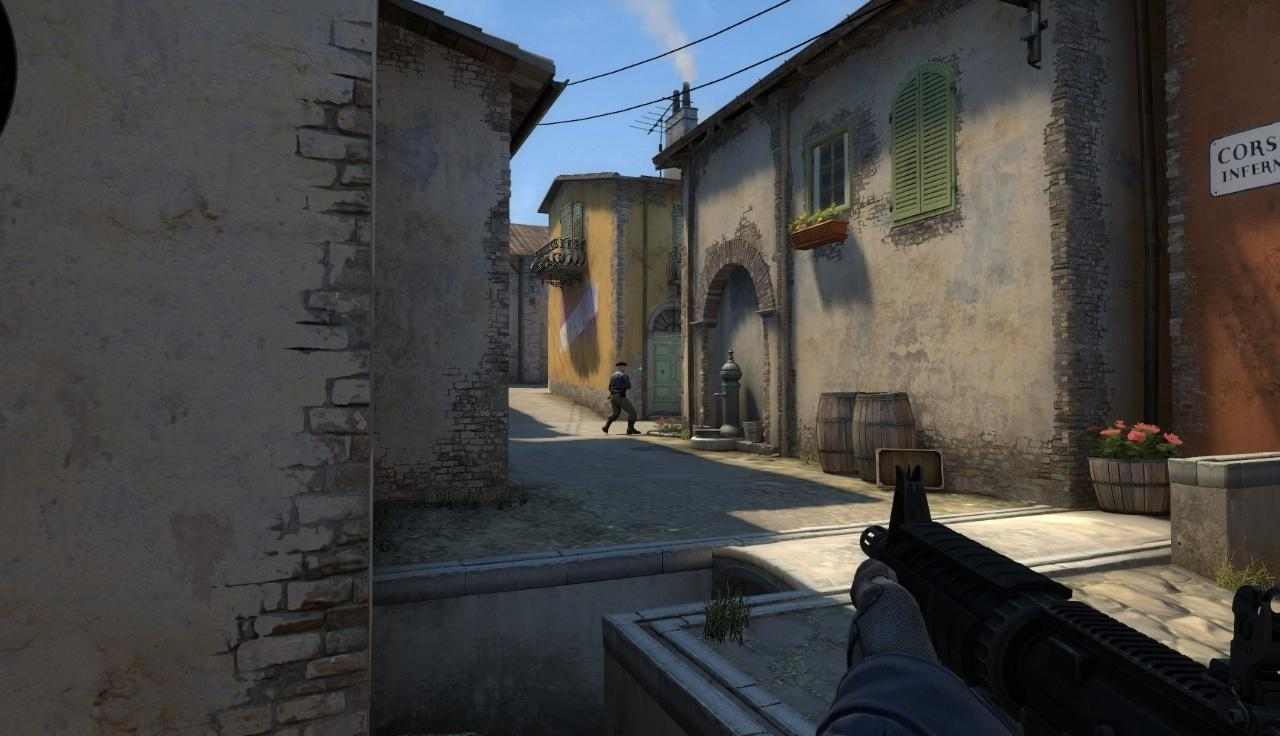rifle: (856, 467, 1280, 736)
tt: (609, 362, 632, 433)
tthead: (616, 362, 627, 373)
